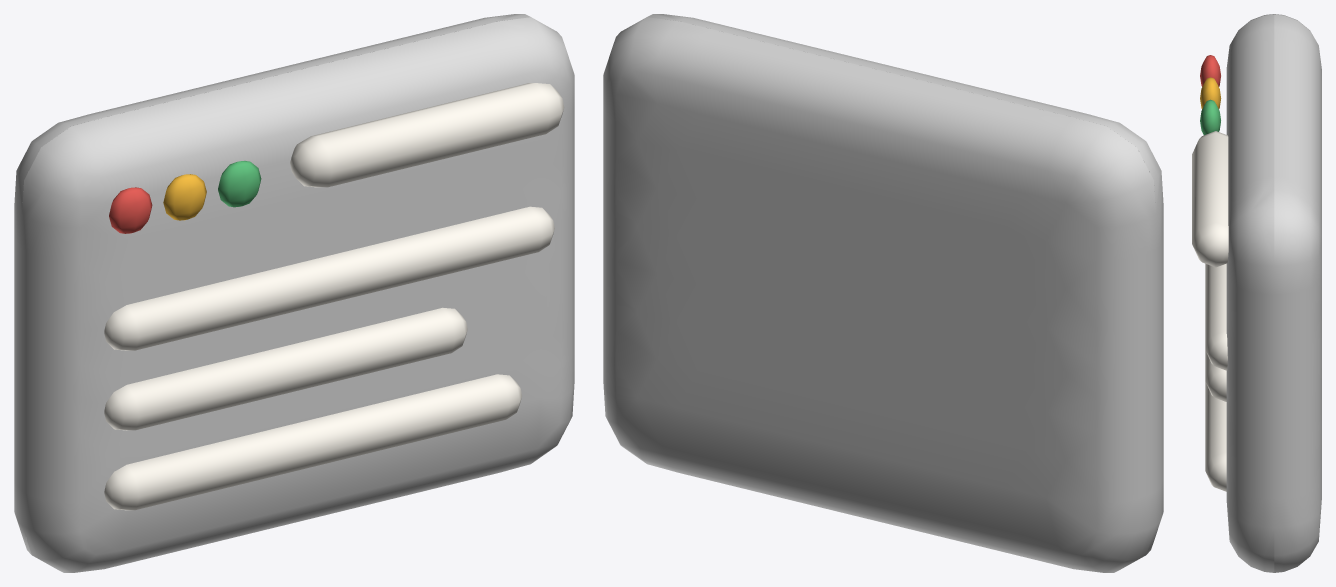
Rendered from browser_window.glb.
3 renders of one model, left to right at view 1: azimuth 30°, elevation 25°; view 2: azimuth 150°, elevation 25°; view 3: azimuth 270°, elevation 25°, orthographic. The views are drawn at different scales.
Parts seen in each view (by area): view 1: browser_window; view 2: browser_window; view 3: browser_window.
Boxes of the visible parts, x1,y1,x2,y2 form: browser_window: [14, 14, 574, 572]; browser_window: [603, 14, 1163, 572]; browser_window: [1192, 14, 1321, 572].
Size of the model in its own units: 1 by 0.78 by 0.245.
